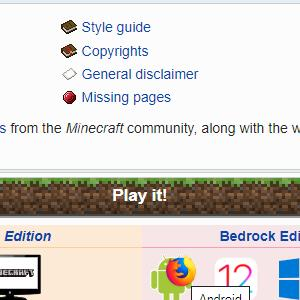firefox: (166, 254, 196, 286)
